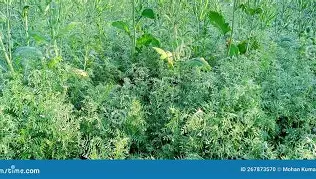crops: (0, 0, 312, 157), (27, 2, 85, 67), (205, 52, 268, 108), (260, 52, 314, 114), (161, 103, 216, 157), (70, 99, 118, 158), (0, 87, 39, 155), (110, 2, 160, 55), (163, 62, 218, 110), (267, 0, 316, 48), (206, 8, 254, 55), (80, 43, 126, 86), (151, 0, 195, 42), (26, 125, 79, 159), (126, 44, 168, 82), (23, 64, 69, 96), (274, 128, 316, 159), (116, 97, 147, 136), (62, 75, 95, 109), (0, 2, 16, 70), (238, 1, 275, 25), (238, 103, 266, 133), (189, 0, 213, 35), (237, 130, 267, 157), (107, 135, 130, 158), (92, 0, 114, 18), (19, 4, 29, 40), (293, 0, 308, 15)
